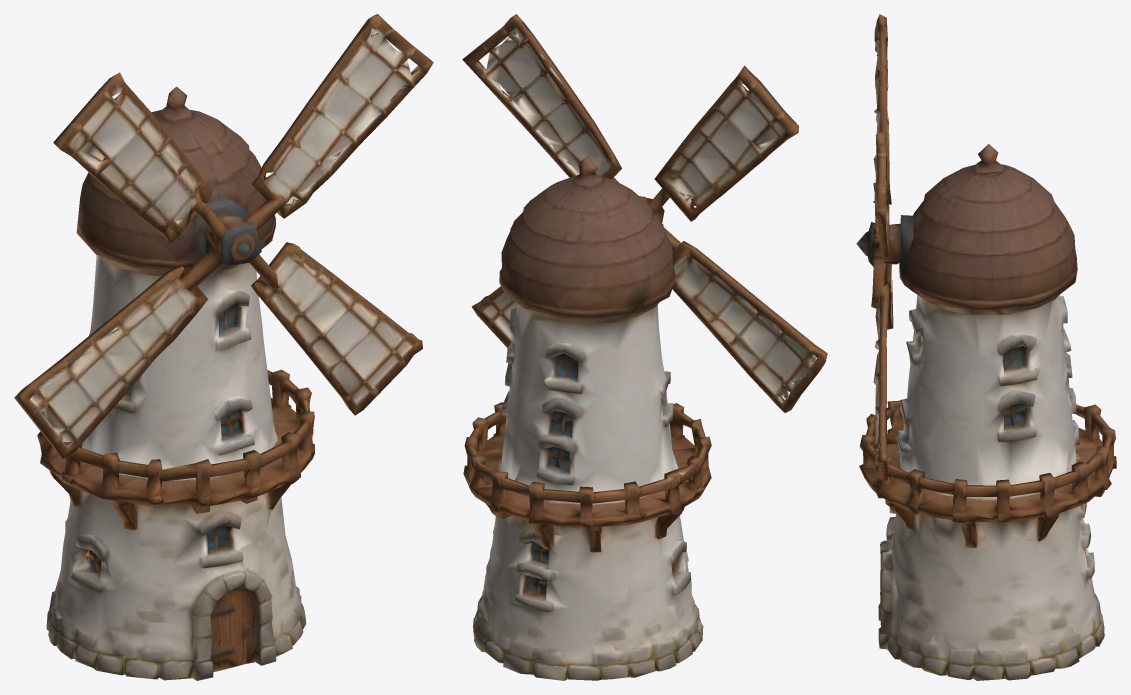
Rendered from windmill.glb.
3 views of the same model, side by side, from view 1: azimuth 30°, elevation 25°; view 2: azimuth 150°, elevation 25°; view 3: azimuth 270°, elevation 25° (orthographic). The views are drawn at different scales.
Parts seen in each view (by area): view 1: windmill; view 2: windmill; view 3: windmill.
Part boxes in pixels (left/top/right/bottom): windmill: left=14, top=14, right=433, bottom=680; windmill: left=462, top=14, right=827, bottom=680; windmill: left=856, top=14, right=1116, bottom=680.
Size of the model in its own units: 11.04 by 16 by 6.66.
Materials: 1 (1 with a texture image).
